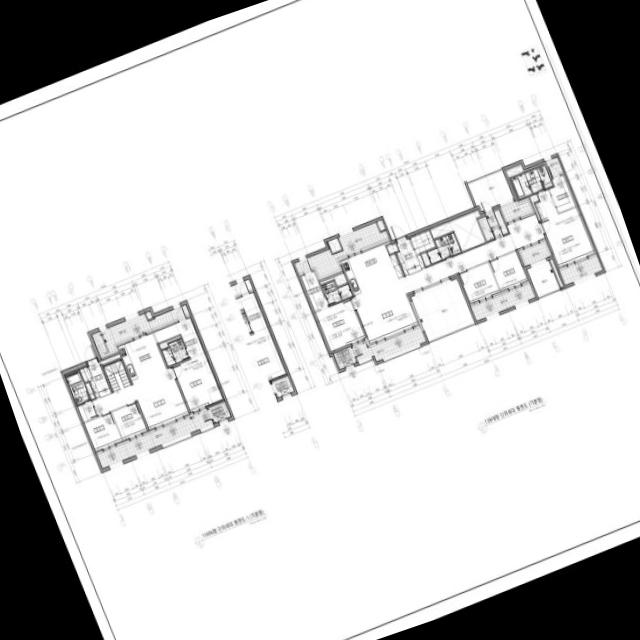background: (0, 0, 640, 640)
space_balconi: (97, 408, 213, 468), (294, 222, 389, 277), (92, 304, 189, 356), (411, 278, 474, 340), (352, 327, 426, 361), (471, 283, 535, 320), (468, 170, 513, 211), (559, 255, 603, 285), (527, 260, 559, 296), (478, 209, 508, 241), (500, 200, 532, 221), (521, 242, 550, 265), (545, 156, 563, 175)
space_bedroom: (535, 189, 594, 266), (172, 353, 223, 411), (315, 298, 365, 351), (459, 262, 500, 303), (489, 251, 527, 290), (84, 412, 122, 451), (112, 402, 147, 439)
space_dressroom: (154, 317, 205, 359), (301, 271, 328, 312), (549, 175, 575, 212)
space_front: (396, 236, 425, 274), (88, 362, 111, 397)
space_kitchen: (341, 241, 403, 295), (118, 333, 167, 382)
space_living_room: (352, 213, 545, 343), (92, 367, 189, 429)
space_other: (430, 210, 485, 251), (103, 359, 131, 392), (410, 230, 435, 254), (319, 271, 347, 286), (549, 258, 563, 287), (77, 401, 97, 421), (159, 335, 180, 349), (530, 194, 540, 220), (100, 353, 120, 364), (79, 366, 92, 382), (506, 165, 523, 177), (328, 237, 341, 252), (85, 382, 95, 399), (386, 243, 398, 254), (421, 252, 430, 266), (377, 219, 385, 230)
space_outdoor_room: (333, 346, 357, 369), (208, 401, 231, 422)
space_toilet: (511, 165, 552, 198), (427, 232, 461, 263), (66, 372, 90, 404), (162, 338, 188, 366), (322, 281, 352, 304)
